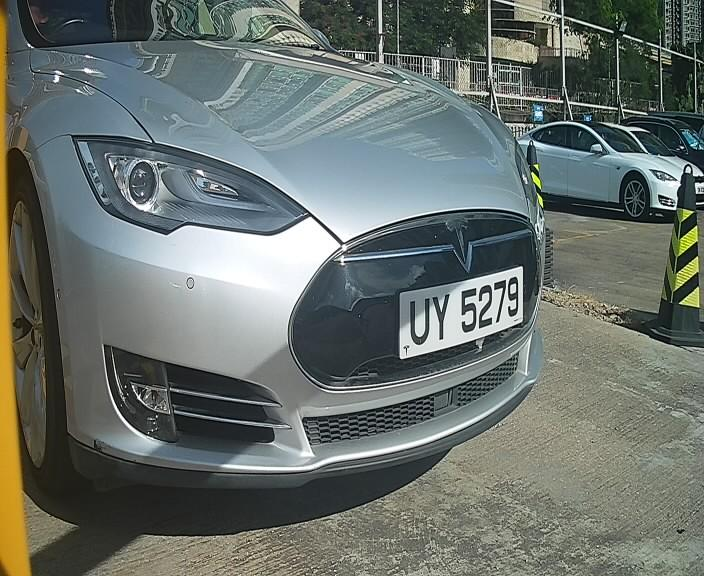Car: (7, 11, 613, 510)
License Plate: (400, 253, 541, 368)
